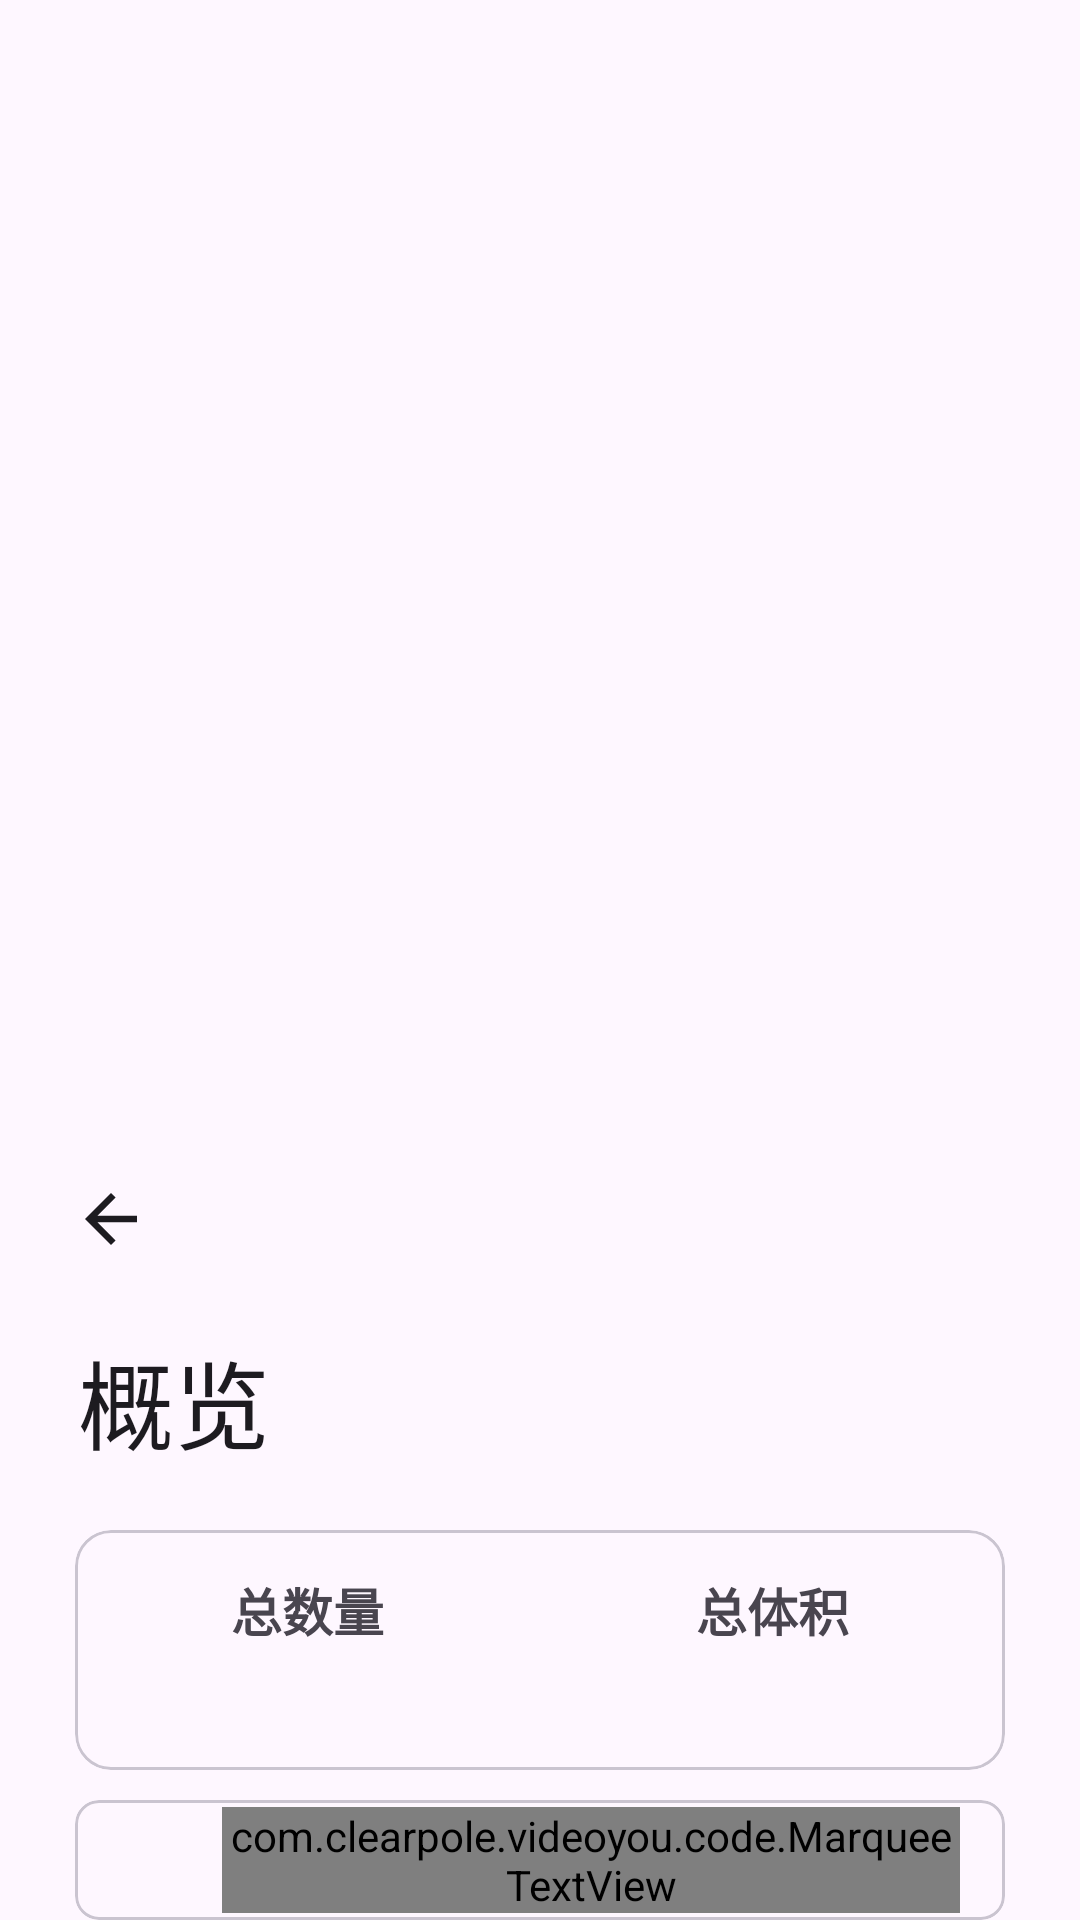

Screen size 1080 x 1920. Icon name, then its center in pixels as point (x, y):
arrow back: point (111, 1219)
